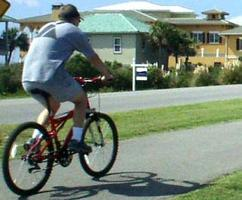person: (20, 3, 111, 157)
